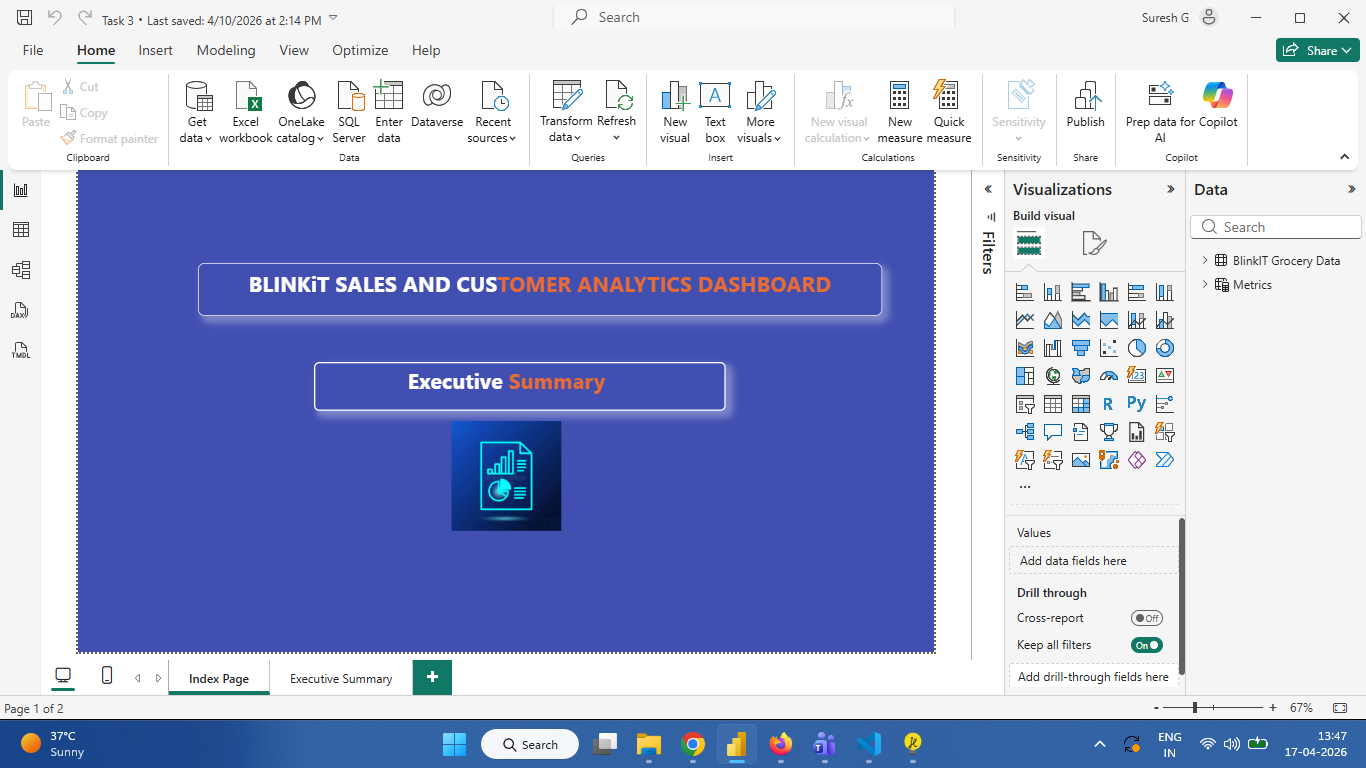

This screenshot's page, from the dashboard's own definition file:
{"tool":"powerbi","page":{"name":"Index Page ","canvas":[1280,720],"ordinal":0},"visuals":[{"type":"textbox","box":[0,0,1280.2,720],"z":0},{"type":"textbox","box":[0,86.6,128.5,633.4],"z":1},{"type":"textbox","box":[128.5,706.6,1151.7,13.4],"z":2},{"type":"textbox","box":[1266.7,86.6,13.4,633.4],"z":3},{"type":"textbox","box":[179.3,138.9,1021.7,79.2],"z":4},{"type":"textbox","box":[370.5,286.8,539.3,73.2],"z":7},{"type":"actionButton","box":[352.5,286.8,615.4,73.2],"z":8},{"type":"image","box":[490,374.9,300.2,164.3],"z":9}]}

Visuals, with their boxes on the page's 1280x720 design canvas (x1, y1, x2, y2). These are canvas units, not pixel positions in the 1366x768 screenshot, which may show the page scaled, cropped or inside an application window:
textbox: bbox(0, 0, 1280, 720)
textbox: bbox(0, 87, 128, 720)
textbox: bbox(128, 707, 1280, 720)
textbox: bbox(1267, 87, 1280, 720)
textbox: bbox(179, 139, 1201, 218)
textbox: bbox(370, 287, 910, 360)
actionButton: bbox(352, 287, 968, 360)
image: bbox(490, 375, 790, 539)
